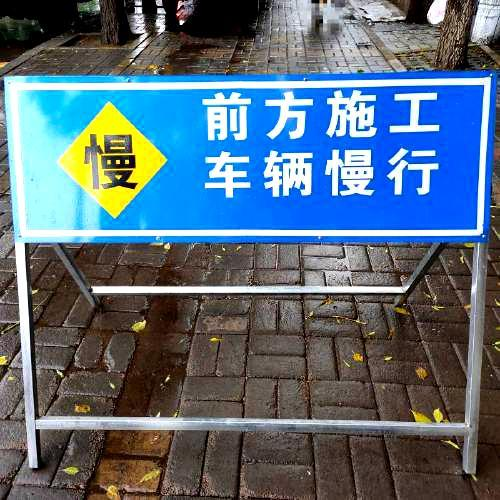sign: (10, 77, 488, 240)
